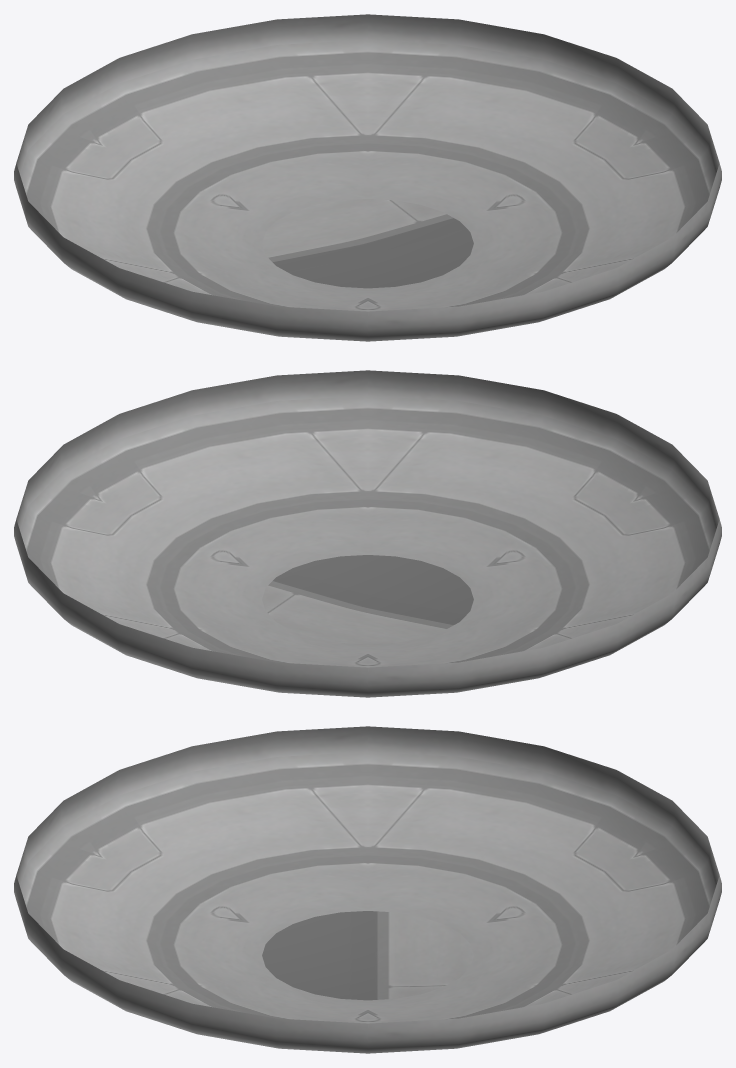
Rendered from alnair_heatshield_s1p5_1.obj.
The picture shows the model from 3 angles, top to bottom: view 1: azimuth 30°, elevation 25°; view 2: azimuth 150°, elevation 25°; view 3: azimuth 270°, elevation 25°; orthographic projection.
Parts seen in each view (by area): view 1: mesh1; view 2: mesh1; view 3: mesh1.
Boxes of the visible parts, x1,y1,x2,y2 form: mesh1: (14,14,721,341); mesh1: (14,370,721,697); mesh1: (14,726,721,1053).
Bounding box in the file's own units: 1.89 × 0.25 × 1.89.
1 material, 1 textured.
